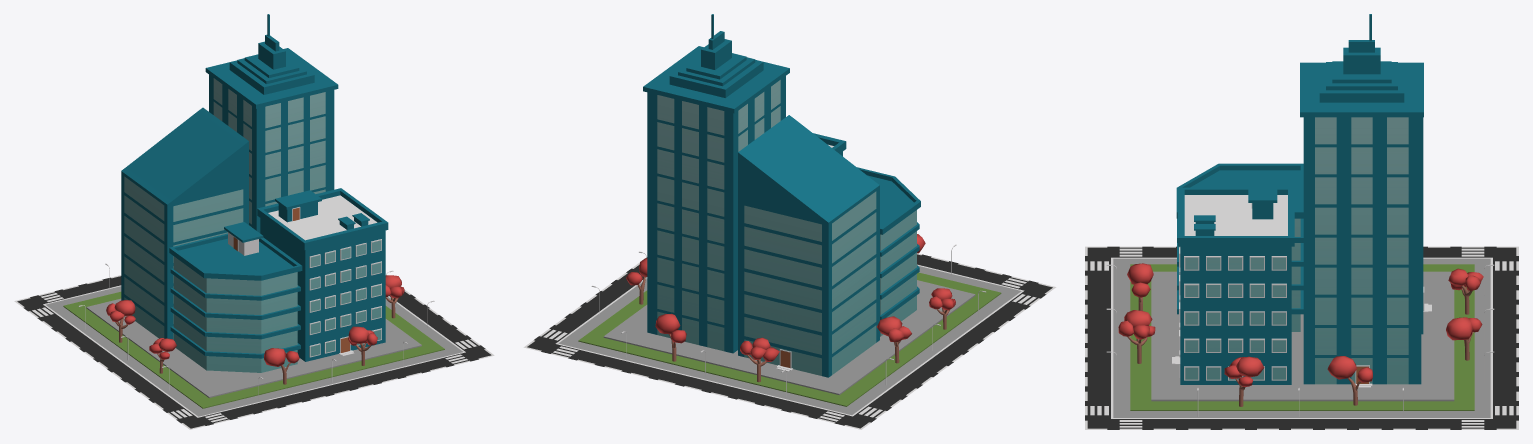
File: BusinessArea.fbx
3 renders of one model, left to right at view 1: azimuth 30°, elevation 25°; view 2: azimuth 150°, elevation 25°; view 3: azimuth 270°, elevation 25°, orthographic. The views are drawn at different scales.
Visible parts, largest first — view 1: BusinessArea; view 2: BusinessArea; view 3: BusinessArea.
Boxes of the visible parts, x1,y1,x2,y2 form: BusinessArea: [14, 14, 494, 429]; BusinessArea: [523, 14, 1056, 429]; BusinessArea: [1085, 14, 1518, 429].
Bounding box in the file's own units: 1000 × 896 × 1000.
1 material, 1 textured.
